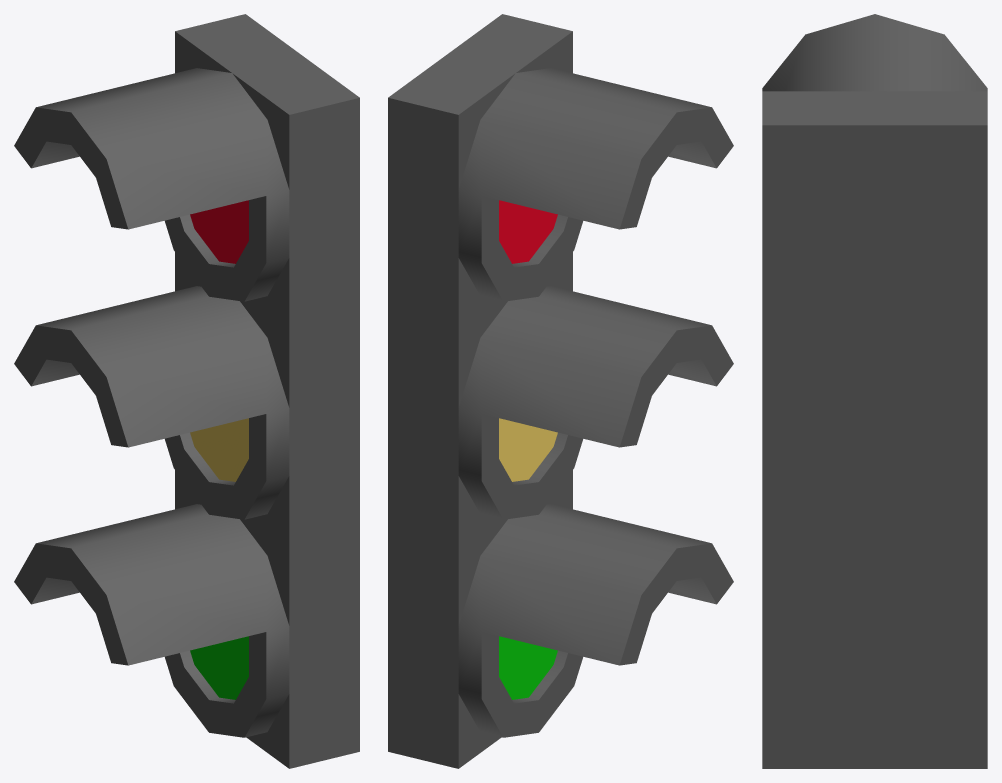
Rendered from traffic_lights_single.fbx.
3 renders of one model, left to right at view 1: azimuth 30°, elevation 25°; view 2: azimuth 150°, elevation 25°; view 3: azimuth 270°, elevation 25°, orthographic.
Visible parts, largest first — view 1: traffic_lights_single; view 2: traffic_lights_single; view 3: traffic_lights_single.
Boxes of the visible parts, <box> form: traffic_lights_single: <box>14,14,359,768</box>; traffic_lights_single: <box>388,14,733,768</box>; traffic_lights_single: <box>762,14,987,768</box>.
Size of the model in its own units: 0.4002 by 1.08 by 0.3424.
